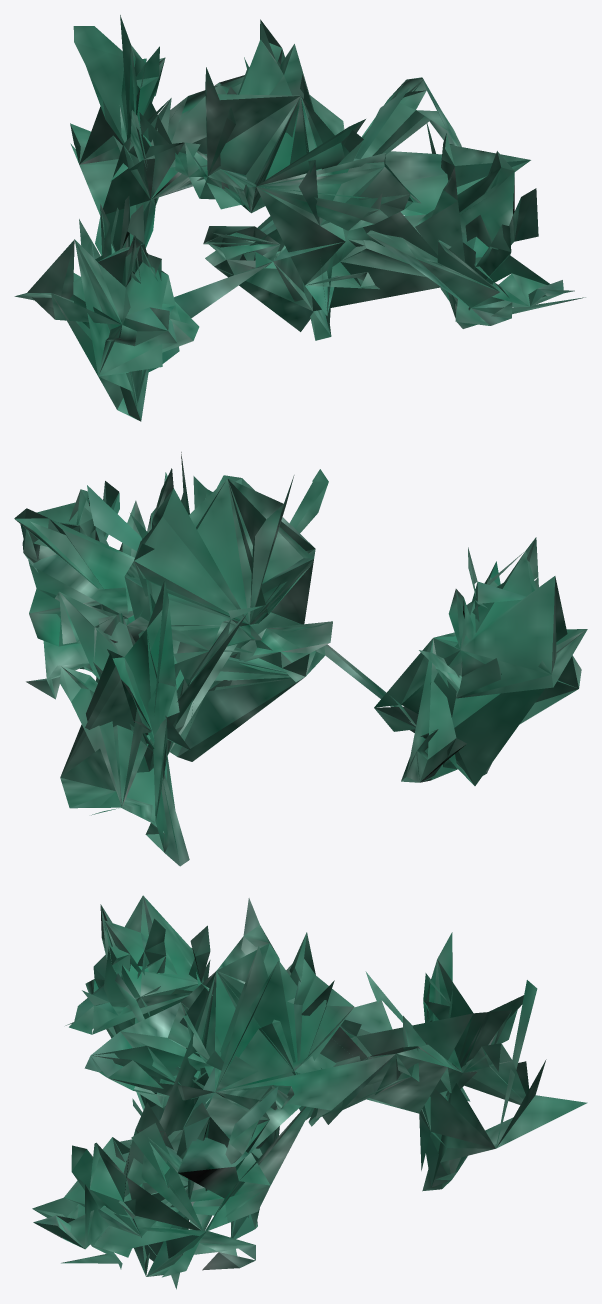
The model's file is crystal_cluster_1827420355_lod0m.glb.
3 views of the same model, one above another, from view 1: azimuth 30°, elevation 25°; view 2: azimuth 150°, elevation 25°; view 3: azimuth 270°, elevation 25° (orthographic). The views are drawn at different scales.
Size of the model in its own units: 2.55 by 1.45 by 2.55.
Materials: 1 (1 with a texture image).
